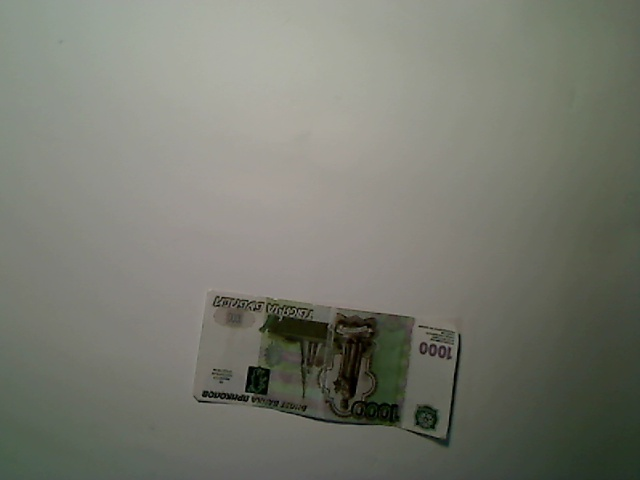banknotes: (187, 287, 462, 450)
